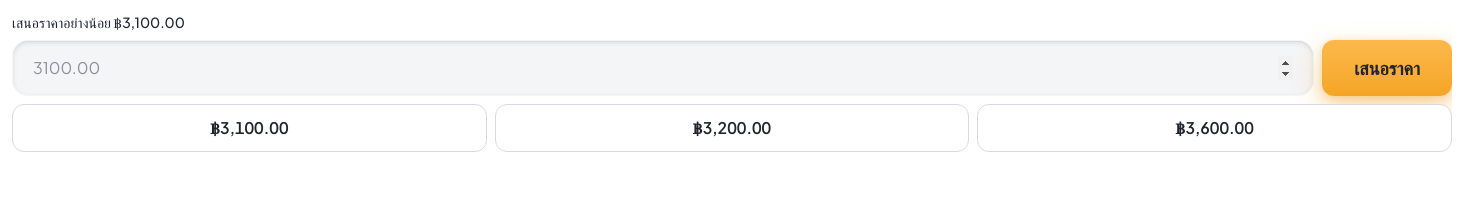
Test: PlaceBidControl › placing a bid › refuses an amount that is not a number without troubling the API
This screenshot has width=1464, height=198.
Click the button "เสนอราคา" at (1387, 68), box 1322,40 -> 1452,96
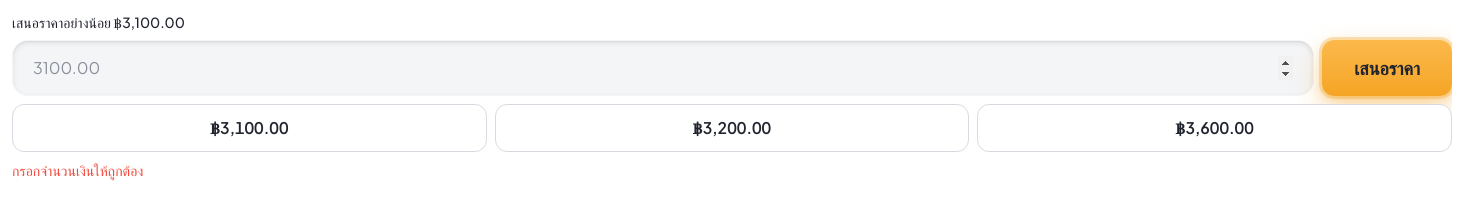
Expected: the message reads "กรอกจำนวนเงินให้ถูกต้อง", 12,161 -> 143,179
